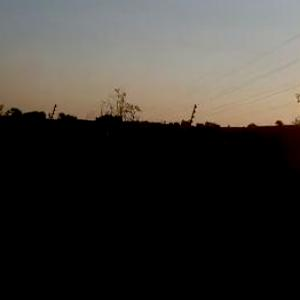follow: (46, 110, 128, 299)
